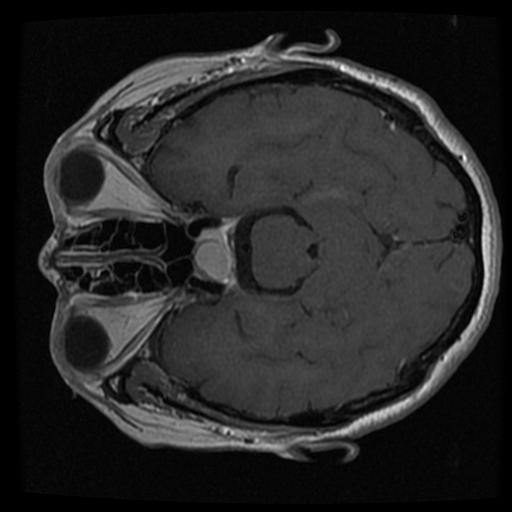pituitary tumour: (193, 227, 235, 281)
